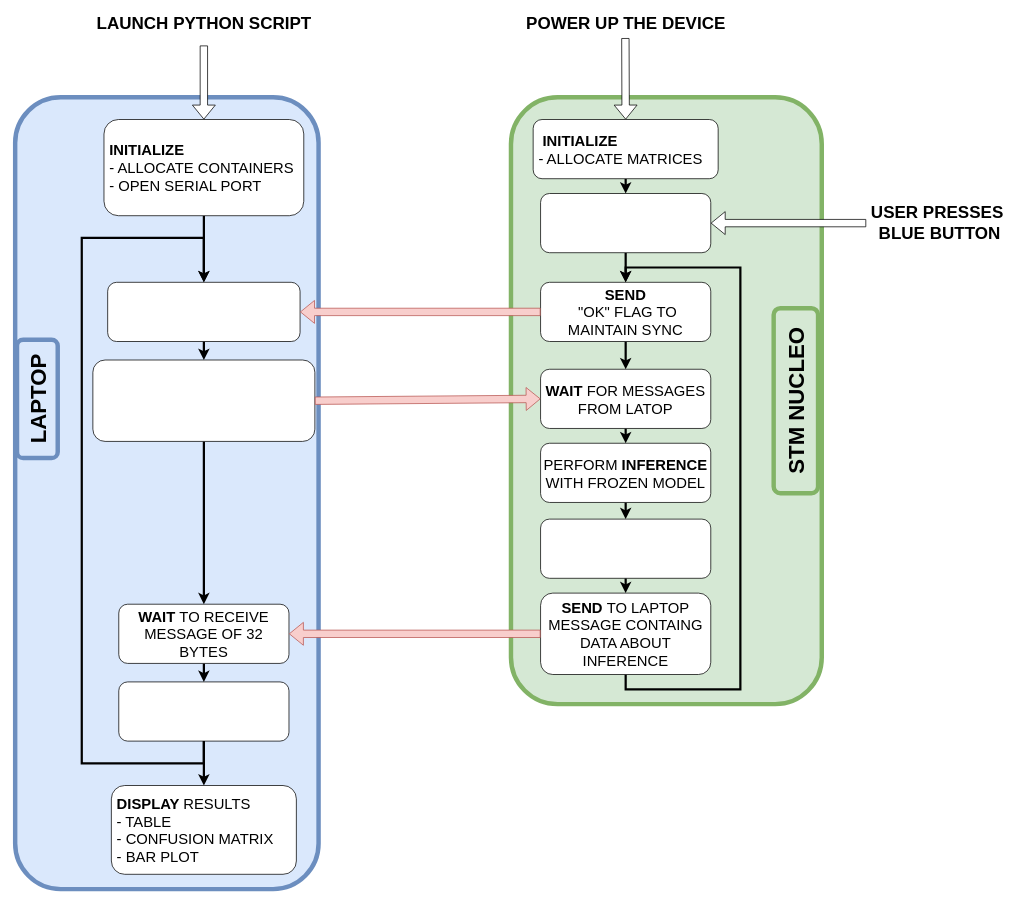
Image size: 1026x904. Some labels were removed from this diagram. The centre of each missing label's shape, as x and y in pixels:
PERFORM CL TRAINING STEP: point (625, 548)
SAVE DATA RECEIVED INSIDE CONTAINERS: point (203, 711)
SEND - INPUT DATA (600x1 ARRAY) - LABEL (1 CHAR): point (203, 400)
WAIT "OK" FLAG FROM STM: point (203, 312)
WAIT FLAG FROM BLUE BUTTON: point (625, 223)
